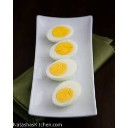begg: (55, 81, 80, 105), (48, 62, 75, 79), (49, 24, 73, 40)
